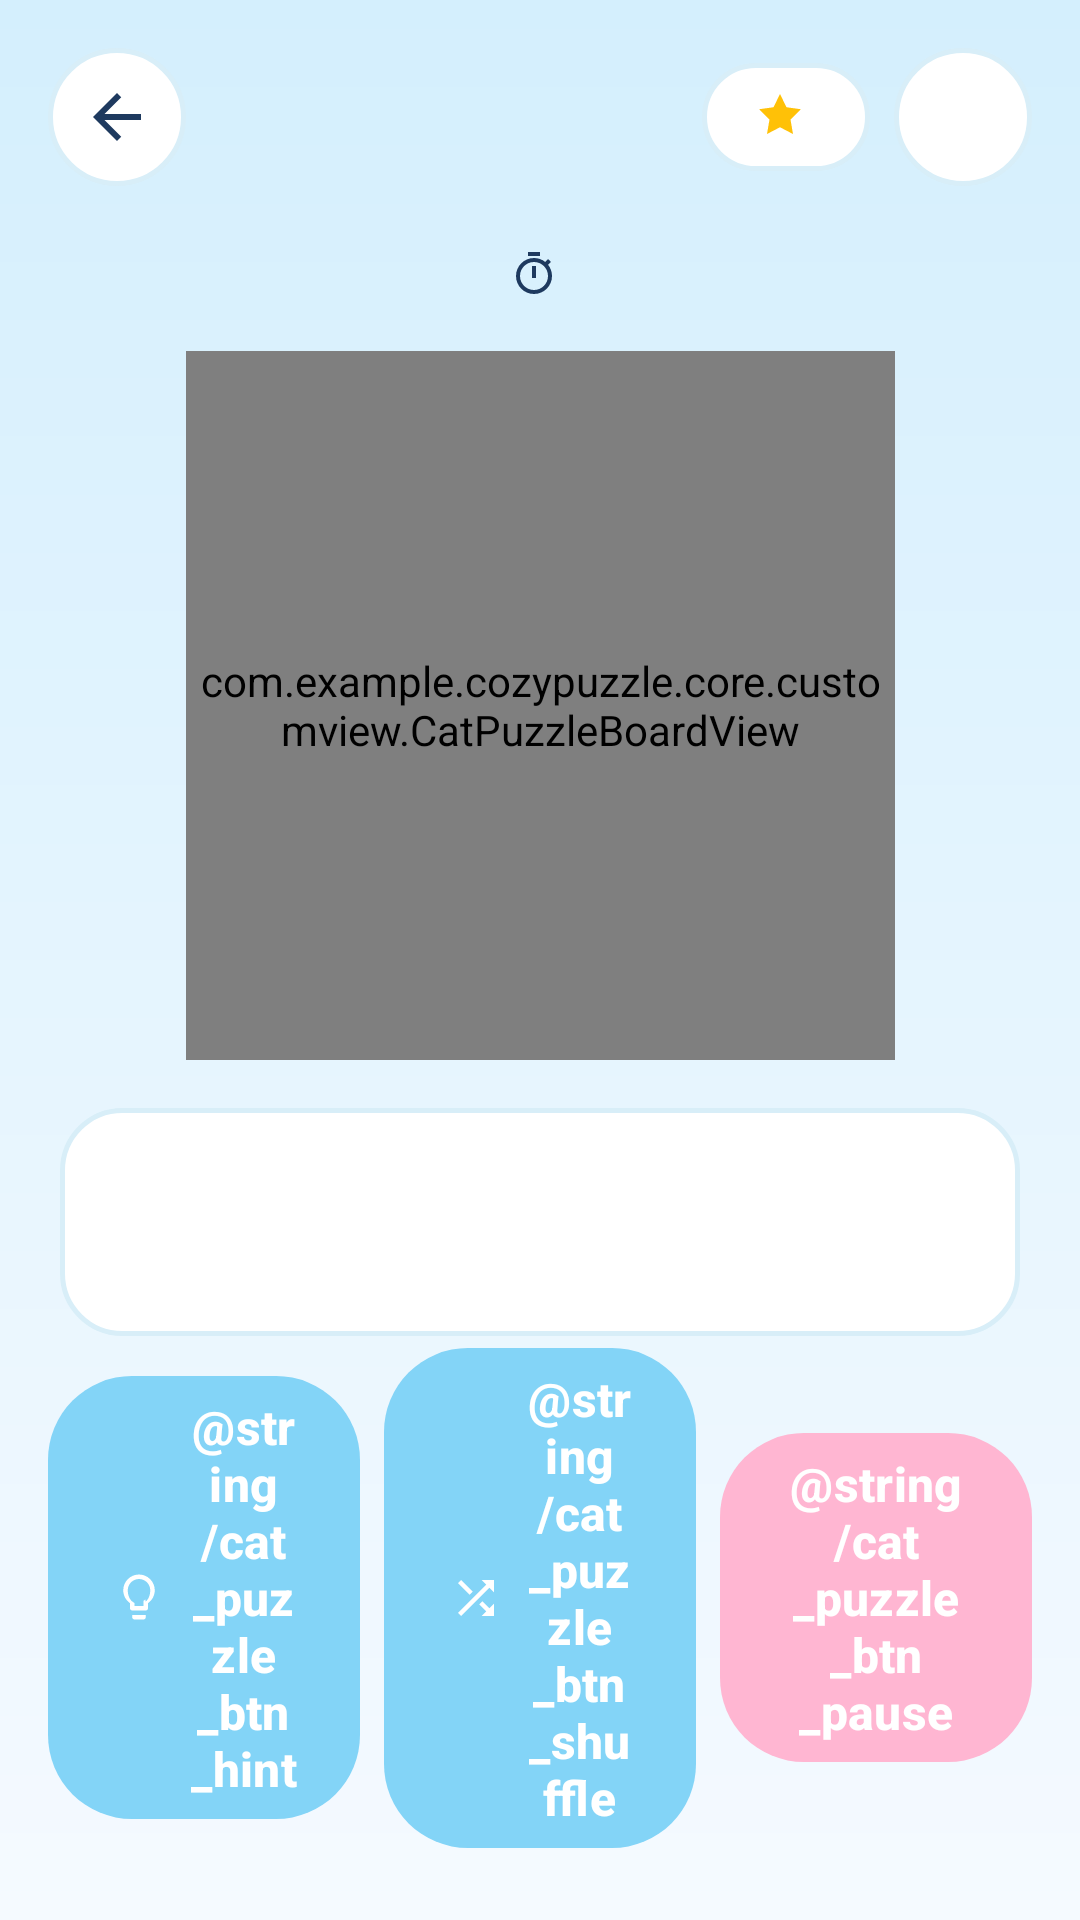

Icon click points for this 1080w x 1920h phone screenshot, format (x,y):
Back: (117,117)
star: (780,114)
timer: (534,273)
